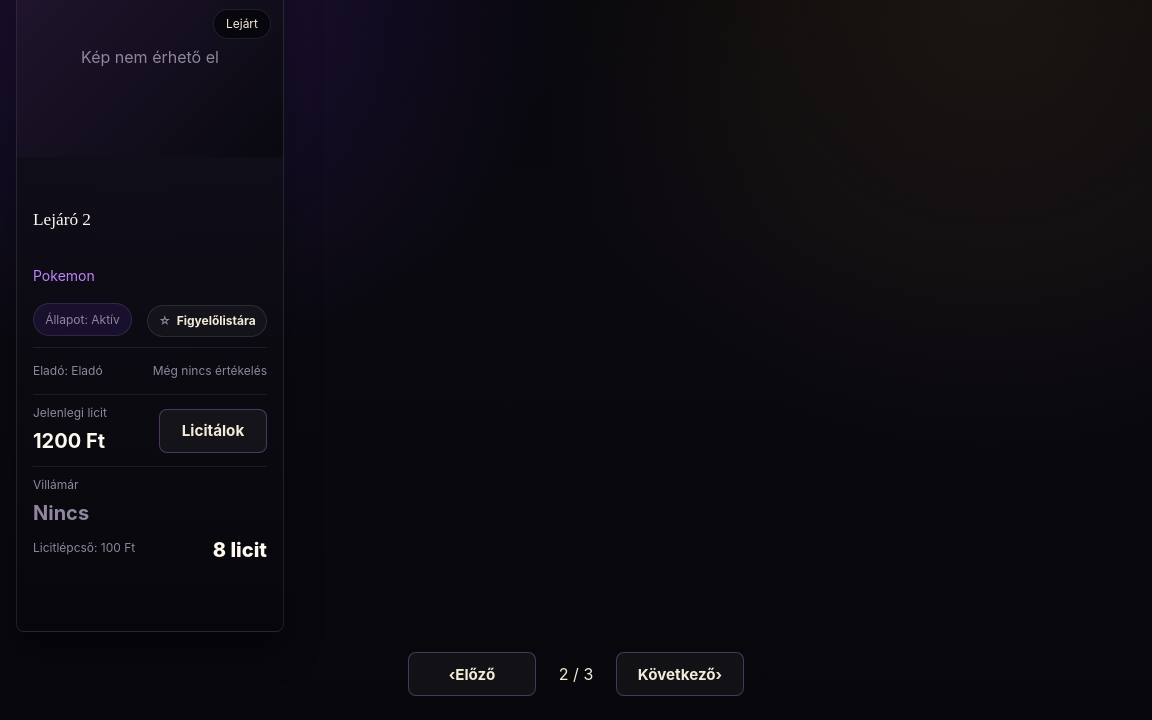
Test: HomeAuctionSection › mobilon automatikusan lapoz, kézi vezérlés után szünetel és unmountkor takarít
(page scrolled)
expect the link "Lejáró 2" is shown: met, box left=33, top=210, right=91, bottom=229
Click the button with aria-label "Következő hamarosan lejár": (680, 674) left=616, top=652, right=744, bottom=696
Wait 6000 ms
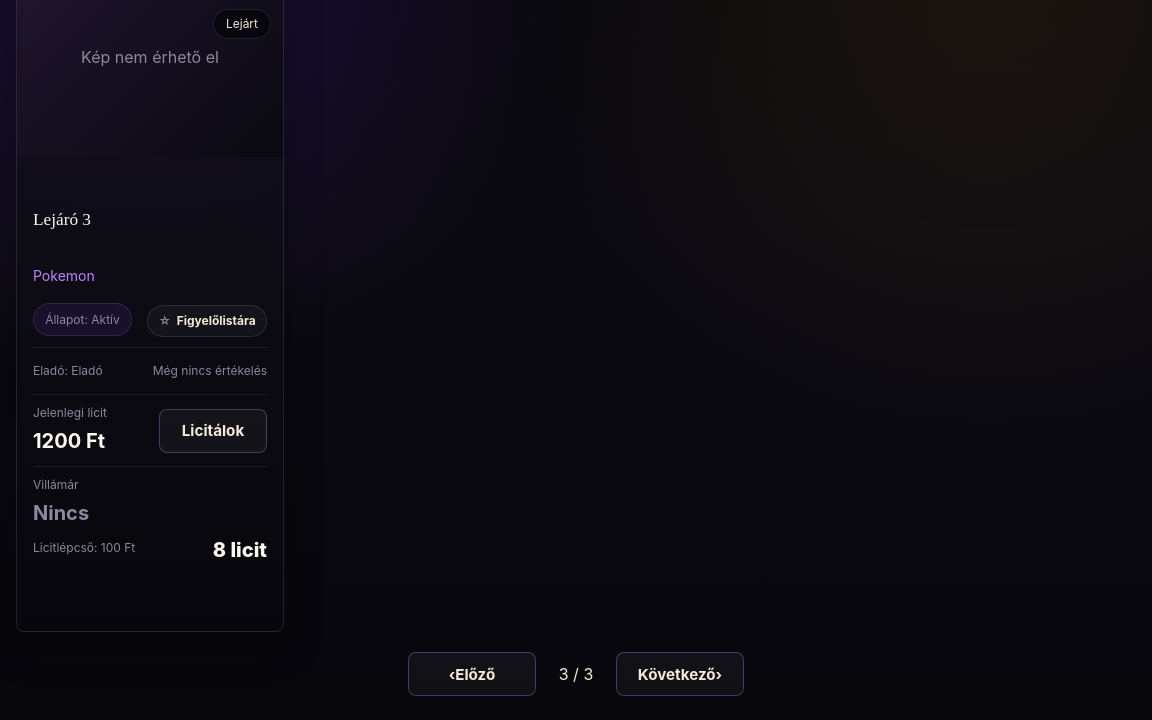
expect the link "Lejáró 3" is shown: met, box left=33, top=210, right=91, bottom=229
